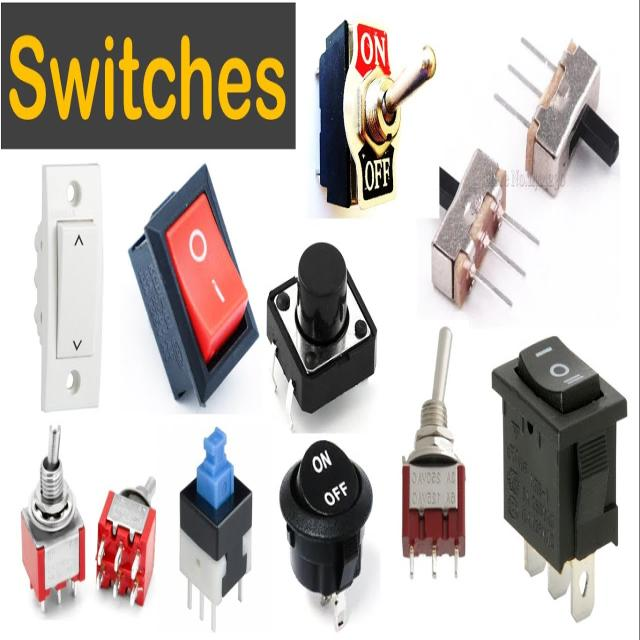switch: (489, 332, 628, 620), (128, 168, 260, 408), (316, 17, 425, 218), (269, 242, 374, 420), (280, 433, 372, 631), (508, 35, 618, 197), (402, 328, 470, 582), (430, 152, 540, 309), (36, 164, 102, 416), (178, 429, 252, 634), (19, 426, 87, 614), (94, 472, 158, 610)
